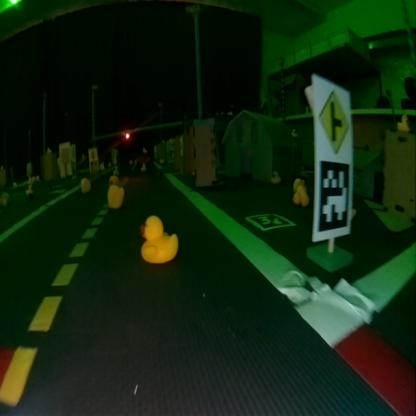Duckie: (140, 215, 178, 263), (106, 183, 124, 209), (292, 184, 307, 205), (397, 114, 410, 132), (80, 176, 90, 191), (271, 170, 281, 181)
Intersection sign: (318, 88, 350, 156)
QR code: (316, 160, 350, 233), (244, 213, 294, 230)
Traffic light: (124, 129, 130, 140)
